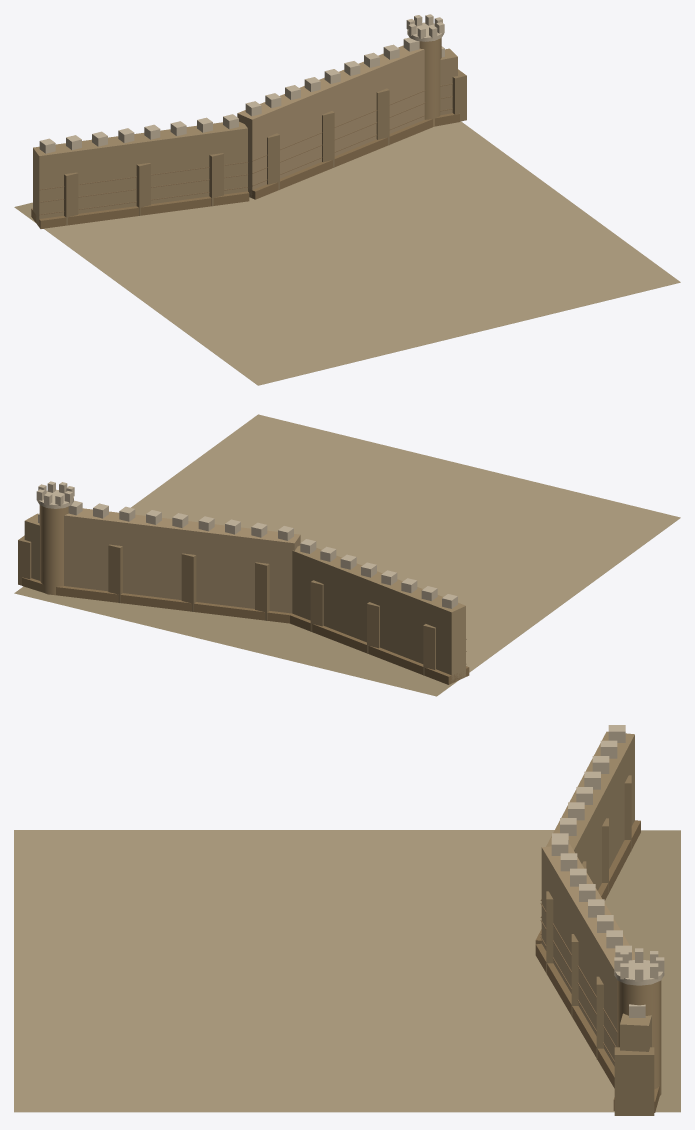
File: city-boundary--1_-2.glb
3 renders of one model, top to bottom at view 1: azimuth 30°, elevation 25°; view 2: azimuth 150°, elevation 25°; view 3: azimuth 270°, elevation 25°, orthographic. The views are drawn at different scales.
Visible parts, largest first — view 1: city-boundary--1_-2; view 2: city-boundary--1_-2; view 3: city-boundary--1_-2.
Part boxes in pixels (box(x1,y1,x2,y2)): city-boundary--1_-2: box(14, 14, 680, 385); city-boundary--1_-2: box(14, 414, 680, 696); city-boundary--1_-2: box(14, 725, 680, 1115).
Bounding box in the file's own units: 32.65 × 7.19 × 32.
